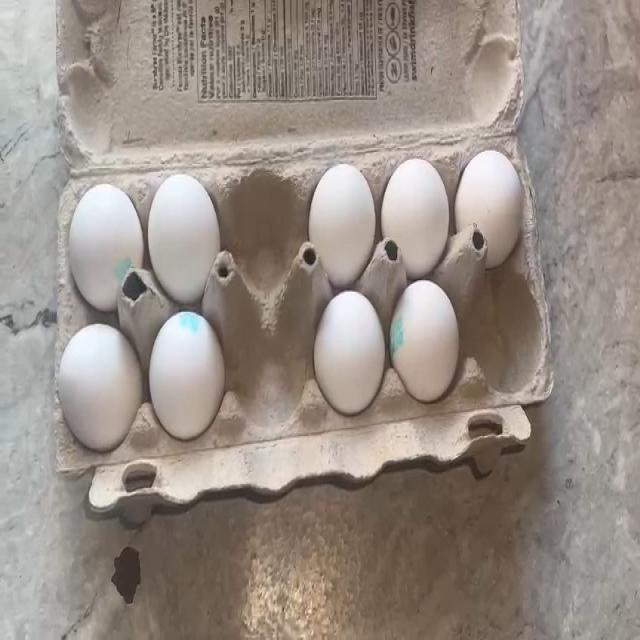Egg: (59, 328, 133, 437), (149, 319, 222, 428), (65, 188, 137, 298), (317, 296, 388, 400), (400, 284, 468, 388), (152, 184, 214, 298), (310, 161, 372, 270), (384, 152, 447, 255), (466, 152, 523, 254)
